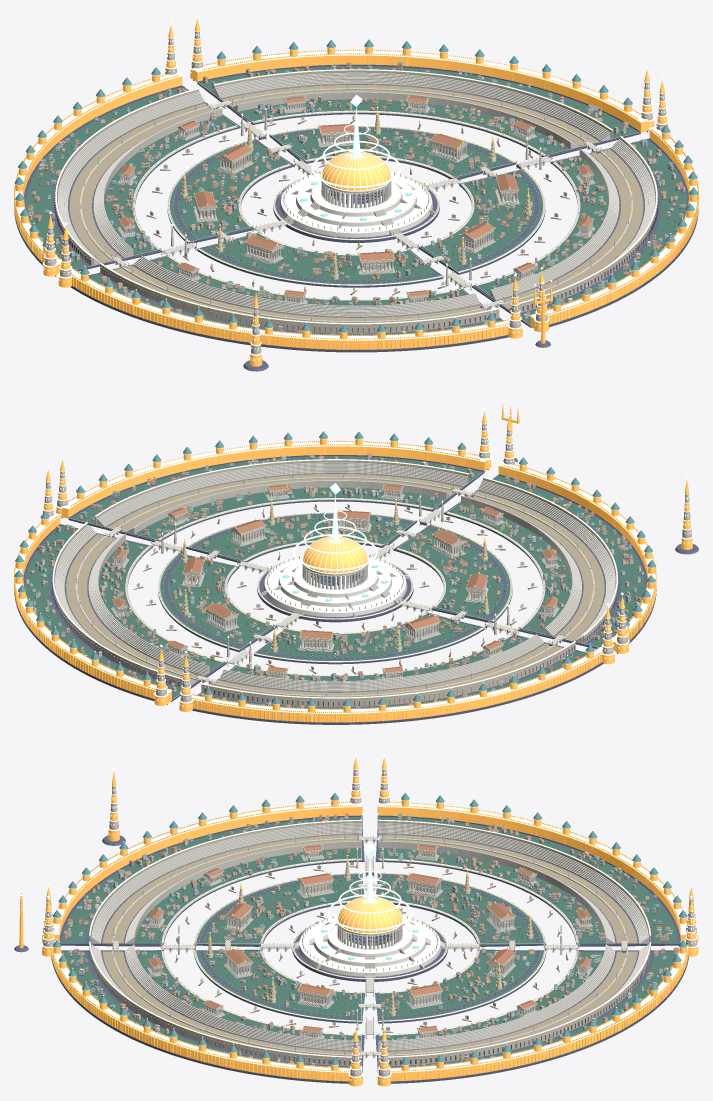
File: atlantis.glb
3 renders of one model, top to bottom at view 1: azimuth 30°, elevation 25°; view 2: azimuth 150°, elevation 25°; view 3: azimuth 270°, elevation 25°, orthographic. The views are drawn at different scales.
Visible parts, largest first — view 1: marble, grass, ori, trim, stone, sand, plaster, roof, roof2, plaster3, plaster2, bronze (+7 smaller); view 2: marble, grass, ori, trim, stone, sand, plaster, roof, roof2, plaster3, plaster2, bronze (+6 smaller); view 3: marble, grass, ori, trim, stone, sand, plaster, roof, roof2, plaster3, plaster2, bronze (+6 smaller).
Boxes of the visible parts, x1,y1,x2,y2 form: marble: [31, 31, 677, 354]; grass: [26, 66, 686, 335]; ori: [14, 18, 698, 366]; trim: [15, 31, 697, 355]; stone: [14, 64, 698, 371]; sand: [69, 85, 643, 322]; plaster: [28, 66, 684, 334]; roof: [28, 62, 685, 335]; roof2: [14, 39, 698, 335]; plaster3: [29, 66, 682, 335]; plaster2: [27, 64, 685, 335]; bronze: [68, 67, 684, 317]; marble: [25, 424, 691, 707]; grass: [25, 456, 645, 709]; ori: [14, 403, 692, 722]; trim: [15, 423, 693, 716]; stone: [14, 455, 698, 724]; sand: [66, 474, 604, 697]; plaster: [29, 455, 631, 707]; roof: [30, 453, 642, 707]; roof2: [14, 431, 656, 708]; plaster3: [33, 456, 638, 708]; plaster2: [30, 457, 642, 708]; bronze: [65, 470, 641, 691]; marble: [43, 769, 697, 1076]; grass: [61, 817, 678, 1068]; ori: [19, 758, 698, 1086]; trim: [41, 769, 698, 1077]; stone: [14, 815, 688, 1083]; sand: [102, 834, 637, 1056]; plaster: [64, 816, 678, 1066]; roof: [64, 813, 678, 1066]; roof2: [52, 792, 687, 1064]; plaster3: [74, 820, 672, 1065]; plaster2: [64, 814, 668, 1066]; bronze: [66, 819, 670, 1053].
Size of the model in its own units: 4395 by 792 by 4578.
